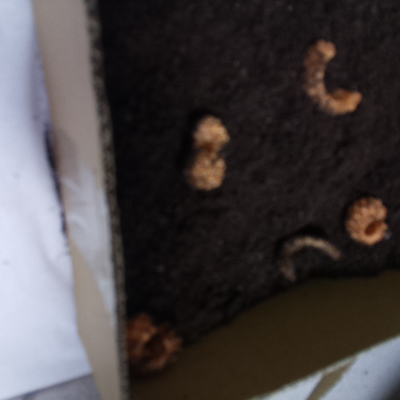eggs: (298, 31, 365, 124), (177, 108, 241, 200), (121, 305, 194, 381), (273, 231, 346, 286), (341, 193, 393, 250)
